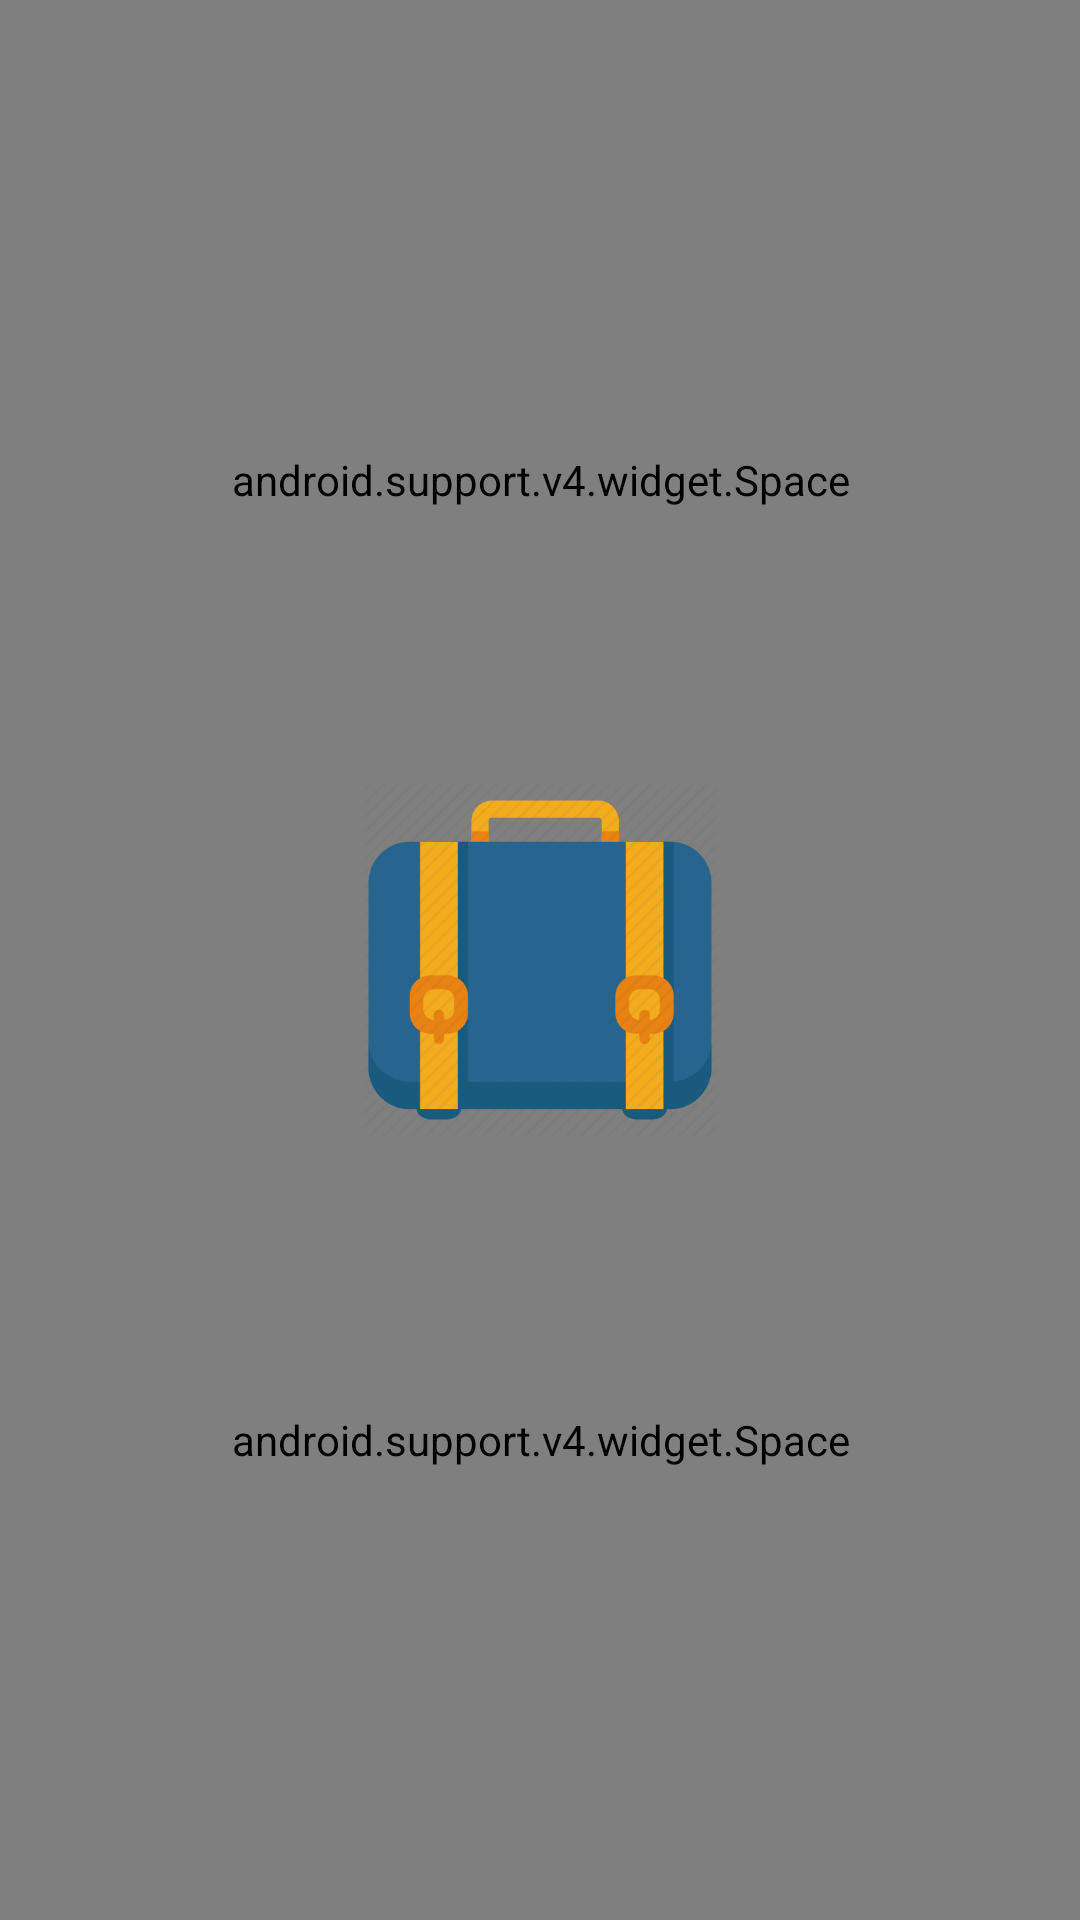

Screen size 1080x1920. Icon name, then its box in pixels as (x1, y1, x2, y2):
bag: (368, 800, 712, 1120)
